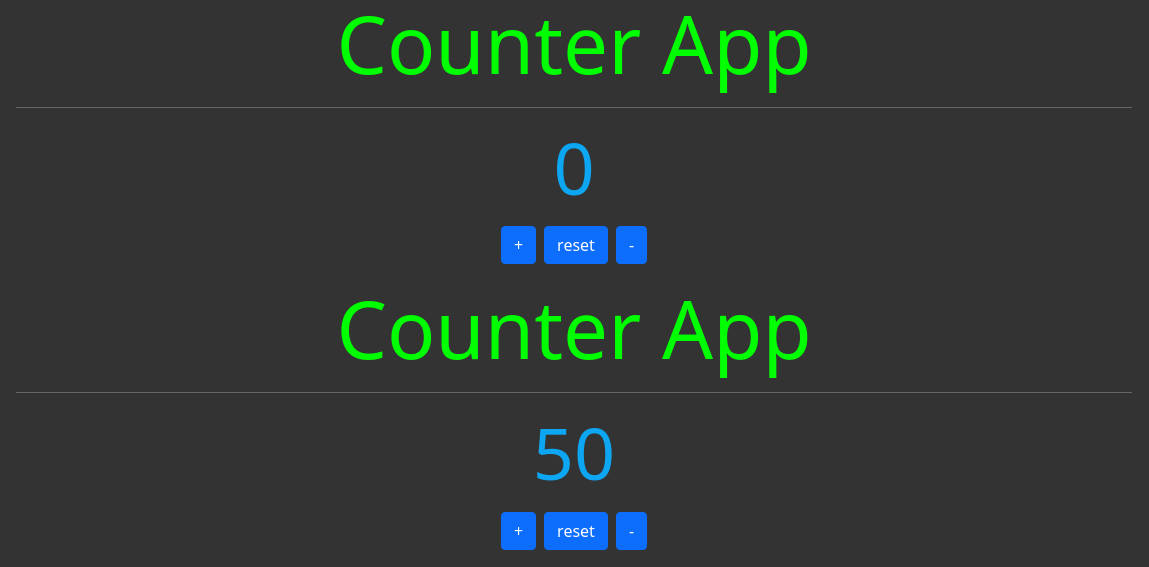
Tests on <Counter /> Component › should decrement counter by 10
Click the button with id "decrement" at (632, 531), box [616,512,647,550]
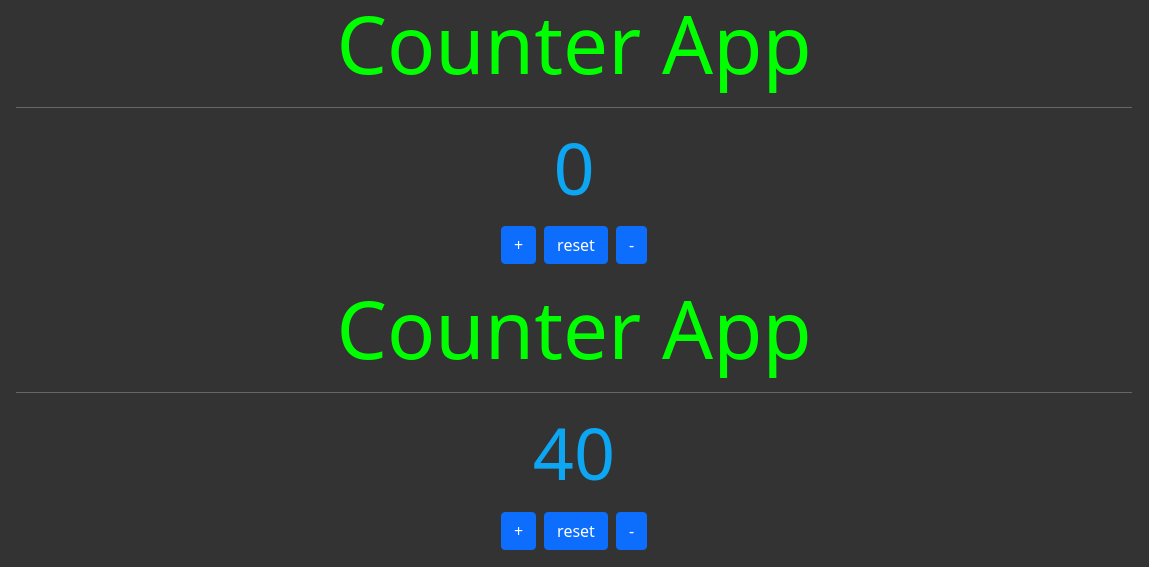
Expected: the heading with id "counter" reads "40", [533,403,615,501]
